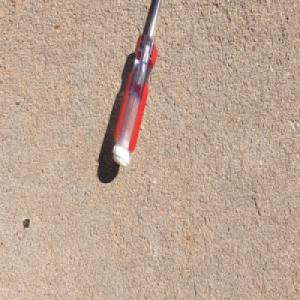Screwdriver: (111, 0, 163, 169)
